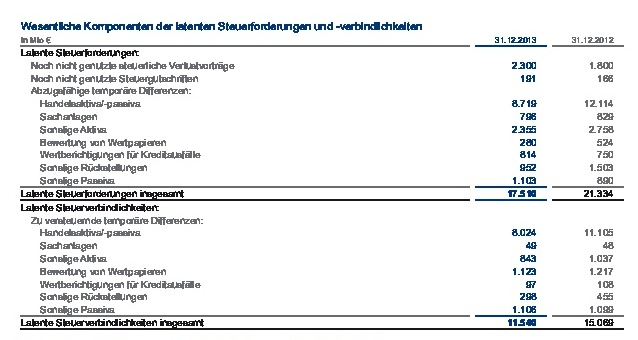table: (0, 0, 638, 340)
